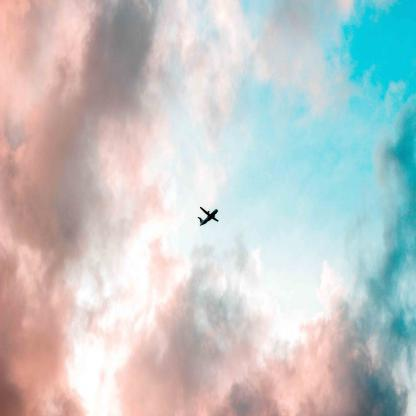CIV_Plane: (194, 202, 220, 237)
